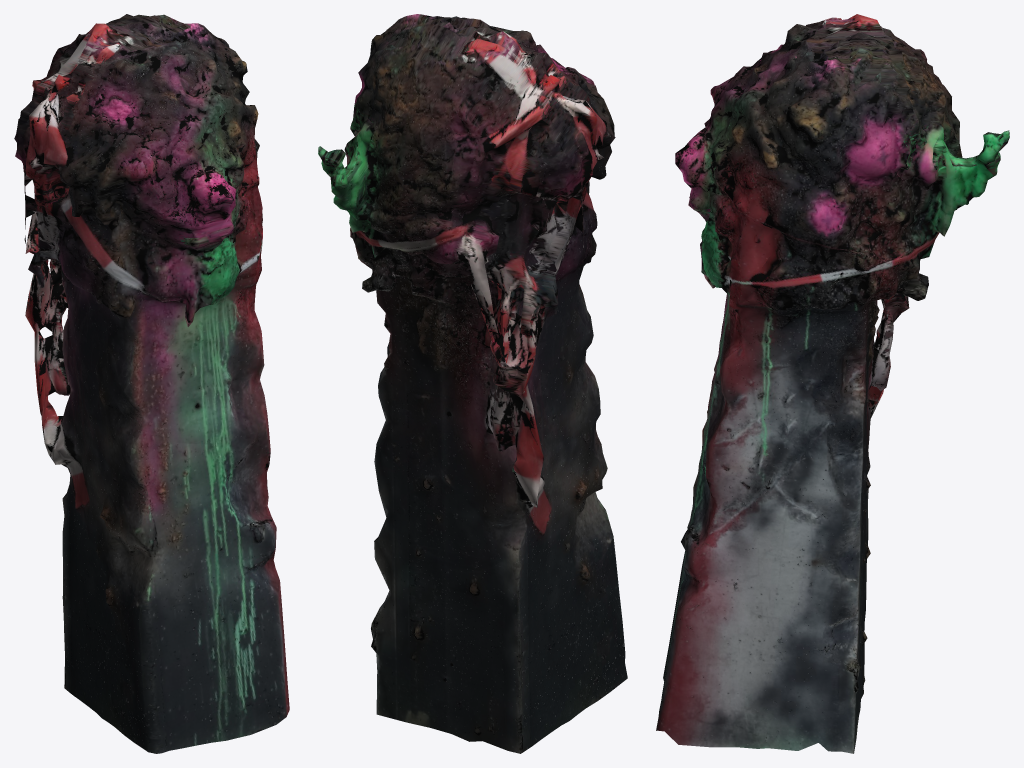
File: Statue1Test.glb
3 views of the same model, side by side, from view 1: azimuth 30°, elevation 25°; view 2: azimuth 150°, elevation 25°; view 3: azimuth 270°, elevation 25° (orthographic). The views are drawn at different scales.
Visible parts, largest first — view 1: Statuen1_retopo2.001; view 2: Statuen1_retopo2.001; view 3: Statuen1_retopo2.001.
Boxes of the visible parts, x1,y1,x2,y2 form: Statuen1_retopo2.001: (14, 14, 289, 753); Statuen1_retopo2.001: (318, 14, 627, 753); Statuen1_retopo2.001: (656, 14, 1009, 753).
Bounding box in the file's own units: 0.7025 × 1.98 × 0.9269.
Materials: 1 (1 with a texture image).
